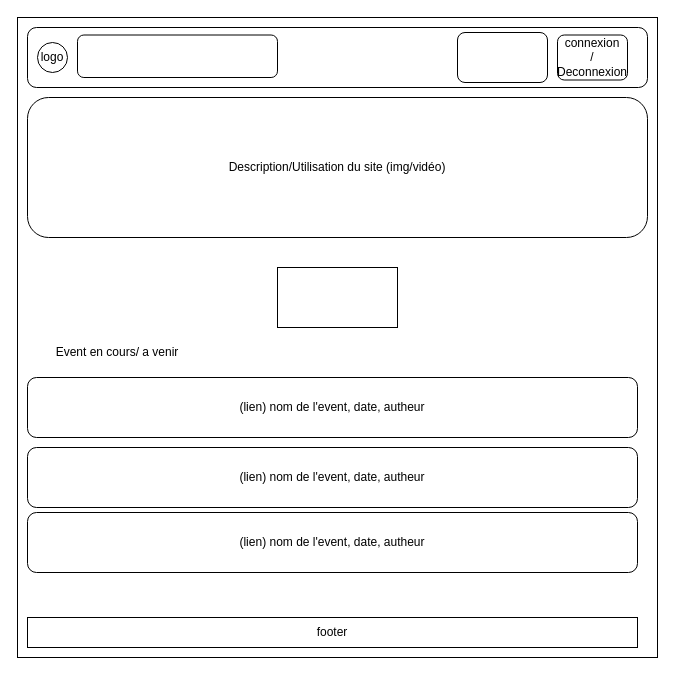
The diagram is 675 pixels wide and 675 high, and some of its shapes have lost their labels. The centre of each missing label's shape, as x and y in pixels:
++++++ Créé un nouvel event: point 337,297
inscription / profil: point 502,57
nom du site: point 177,56
